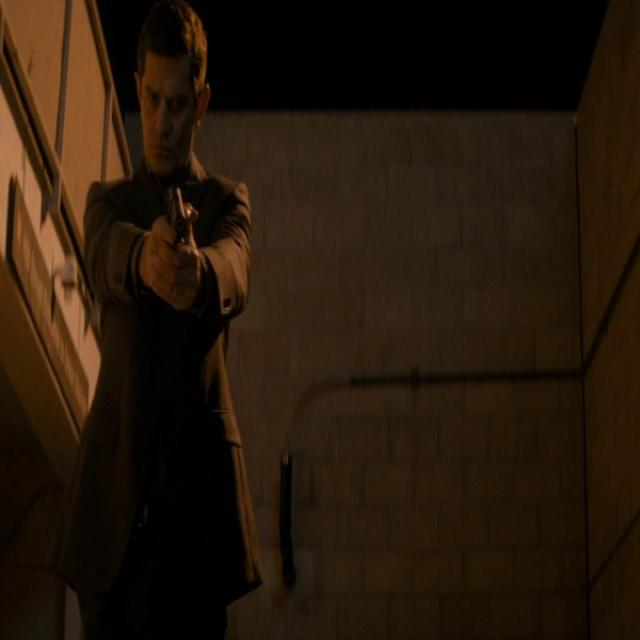weapons: (146, 163, 210, 309)
